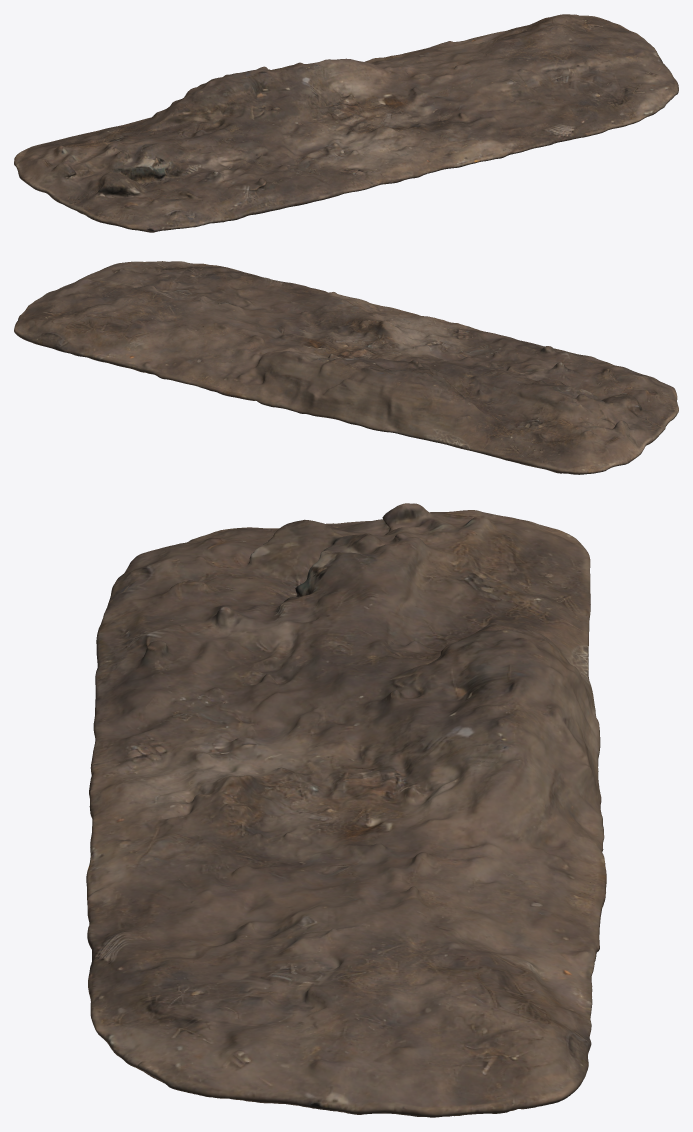
Rendered from _post_apocalyptic_ter_0304084913_texture.obj.
3 views of the same model, one above another, from view 1: azimuth 30°, elevation 25°; view 2: azimuth 150°, elevation 25°; view 3: azimuth 270°, elevation 25° (orthographic). The views are drawn at different scales.
Parts seen in each view (by area): view 1: _post_apocalyptic_ter_0304084913_texture; view 2: _post_apocalyptic_ter_0304084913_texture; view 3: _post_apocalyptic_ter_0304084913_texture.
Part boxes in pixels (box(x1,y1,x2,y2)): _post_apocalyptic_ter_0304084913_texture: box(14, 14, 678, 232); _post_apocalyptic_ter_0304084913_texture: box(14, 261, 678, 474); _post_apocalyptic_ter_0304084913_texture: box(86, 503, 606, 1117).
Size of the model in its own units: 2 by 0.1357 by 0.739.
Materials: 1 (1 with a texture image).
